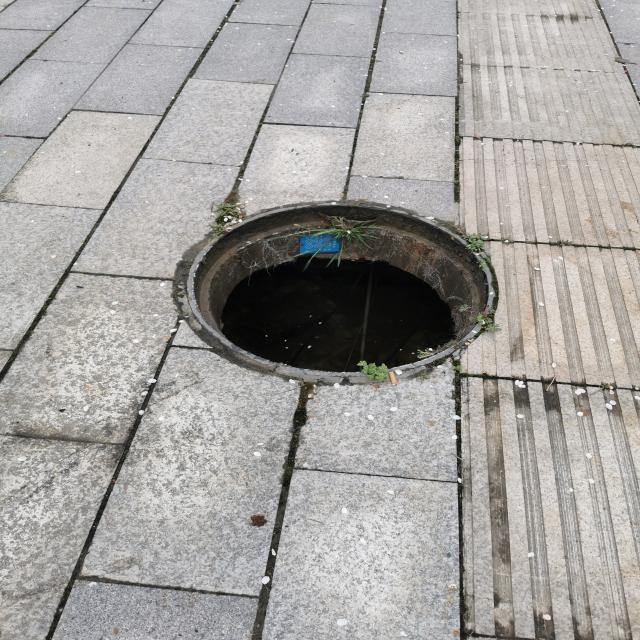Faulty: (186, 198, 497, 382)
